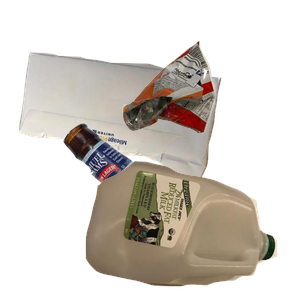glass: (60, 120, 300, 300)
paper: (17, 50, 231, 230)
plastic: (83, 159, 300, 300)
trash: (120, 38, 300, 164)
